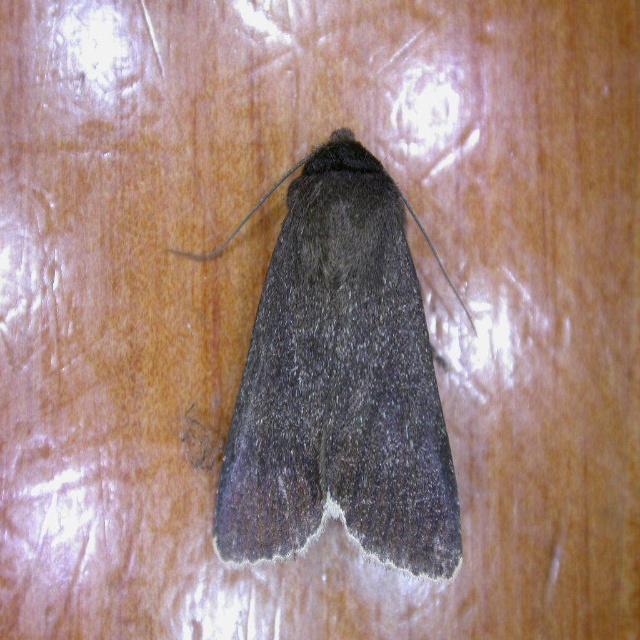Moths and butterflies: (164, 126, 475, 579)
